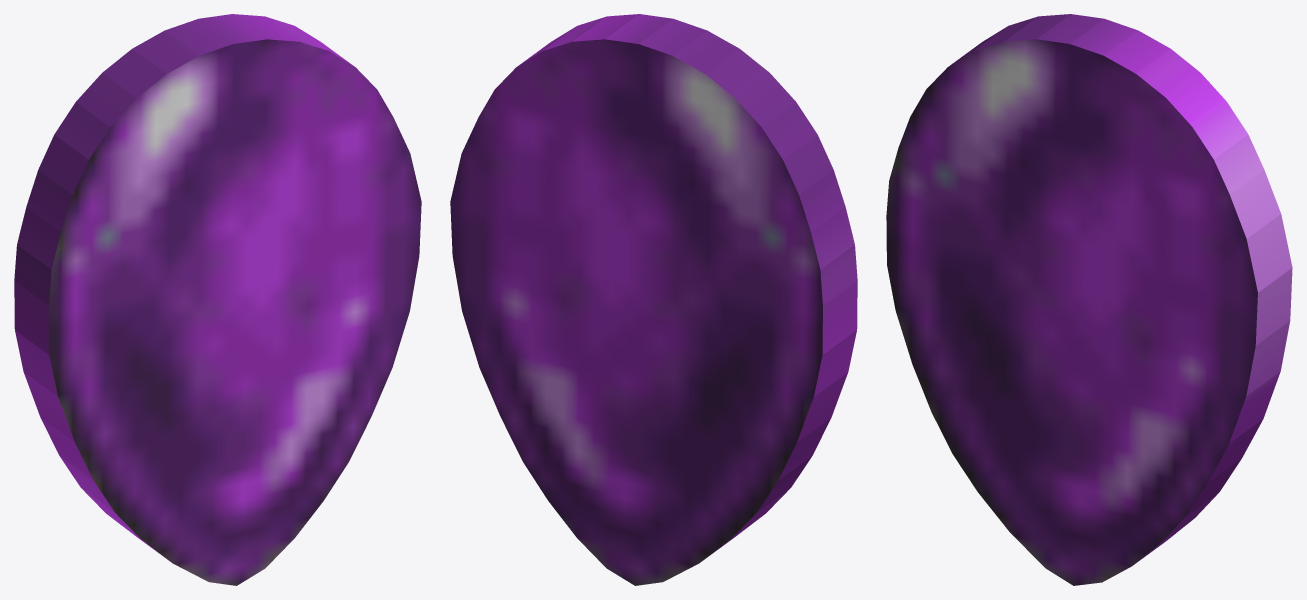
The model's file is Rarity_Epic.glb.
3 renders of one model, left to right at view 1: azimuth 30°, elevation 25°; view 2: azimuth 150°, elevation 25°; view 3: azimuth 330°, elevation 25°, orthographic.
Parts seen in each view (by area): view 1: Circle; view 2: Circle; view 3: Circle.
Part boxes in pixels (left/top/right/bottom): Circle: left=14, top=14, right=421, bottom=585; Circle: left=450, top=14, right=857, bottom=585; Circle: left=886, top=14, right=1292, bottom=585.
Size of the model in its own units: 0.4969 by 0.6914 by 0.08.
Materials: 1 (1 with a texture image).
